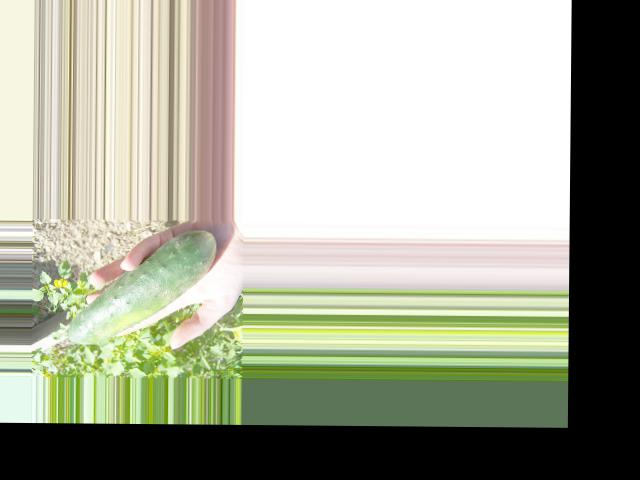cucumber: (66, 229, 215, 345)
